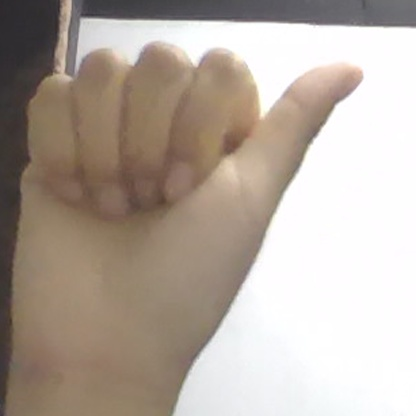A: (7, 43, 363, 388)
